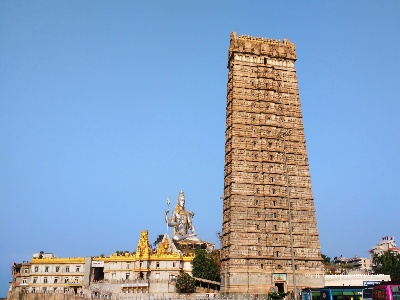gopura: (194, 27, 339, 275)
